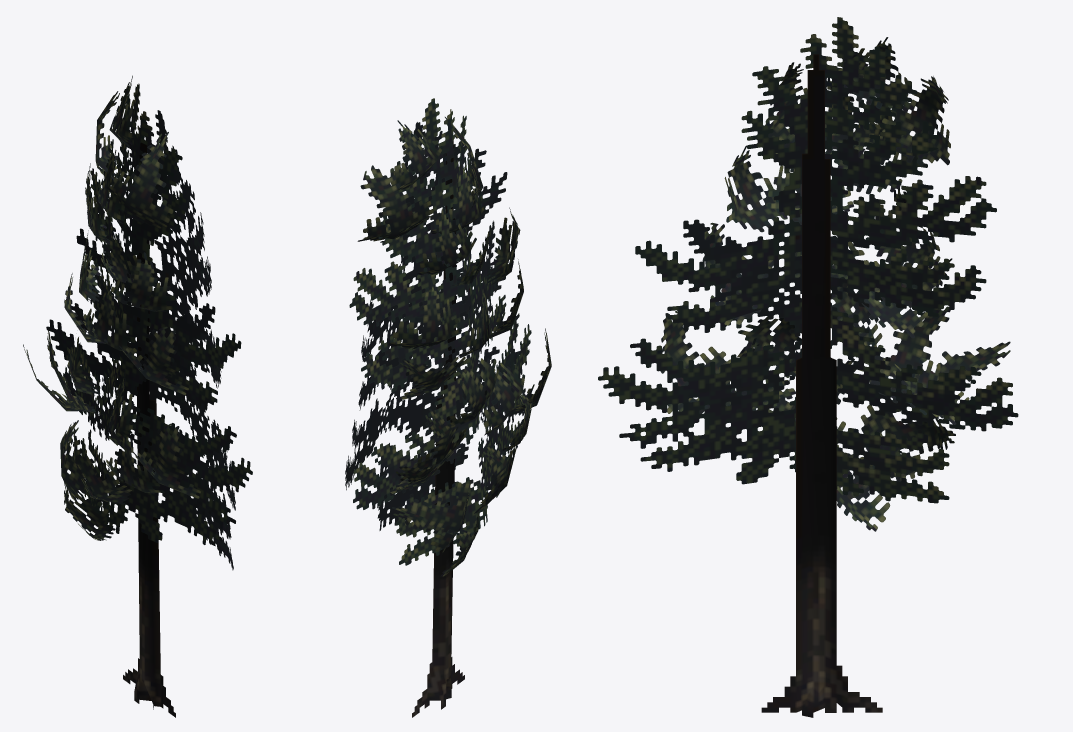
The model's file is EnvFldMD_Tree_F_MA_Painted.FBX.
3 views of the same model, side by side, from view 1: azimuth 30°, elevation 25°; view 2: azimuth 150°, elevation 25°; view 3: azimuth 270°, elevation 25° (orthographic). The views are drawn at different scales.
Visible parts, largest first — view 1: EnvFldMD_Tree_F_MA_Painted; view 2: EnvFldMD_Tree_F_MA_Painted; view 3: EnvFldMD_Tree_F_MA_Painted.
Part boxes in pixels (bbox=[...]): EnvFldMD_Tree_F_MA_Painted: bbox=[23, 75, 252, 717]; EnvFldMD_Tree_F_MA_Painted: bbox=[345, 98, 551, 717]; EnvFldMD_Tree_F_MA_Painted: bbox=[598, 17, 1018, 717].
Size of the model in its own units: 140 by 669 by 405.
Materials: 2 (2 with a texture image).
